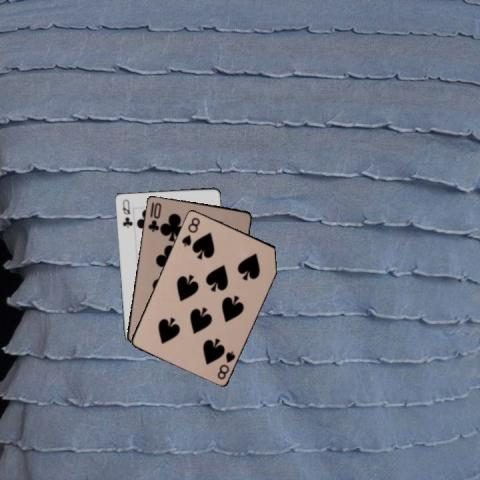10c: (144, 200, 162, 234)
8s: (214, 347, 237, 381), (179, 214, 201, 248)
Qc: (119, 196, 133, 229)
